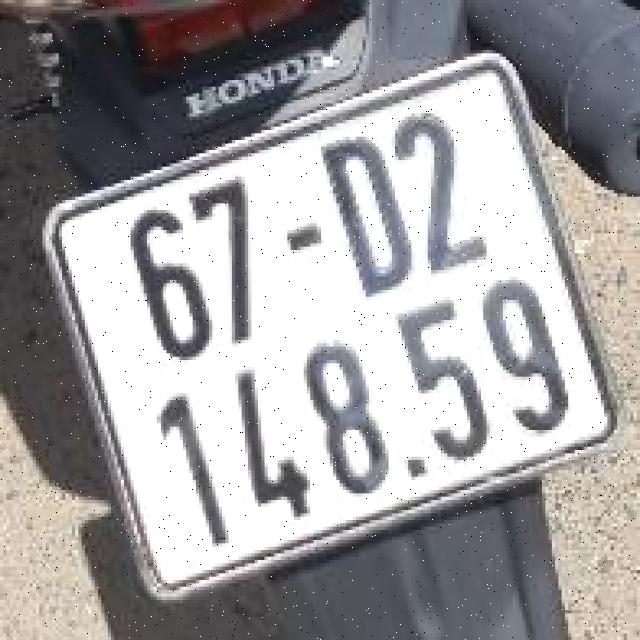1: (139, 374, 247, 565)
2: (380, 98, 501, 287)
4: (217, 350, 325, 535)
5: (376, 291, 506, 480)
6: (115, 198, 231, 378)
7: (184, 165, 287, 359)
8: (291, 328, 407, 507)
9: (469, 261, 590, 448)
D: (305, 119, 427, 311)
